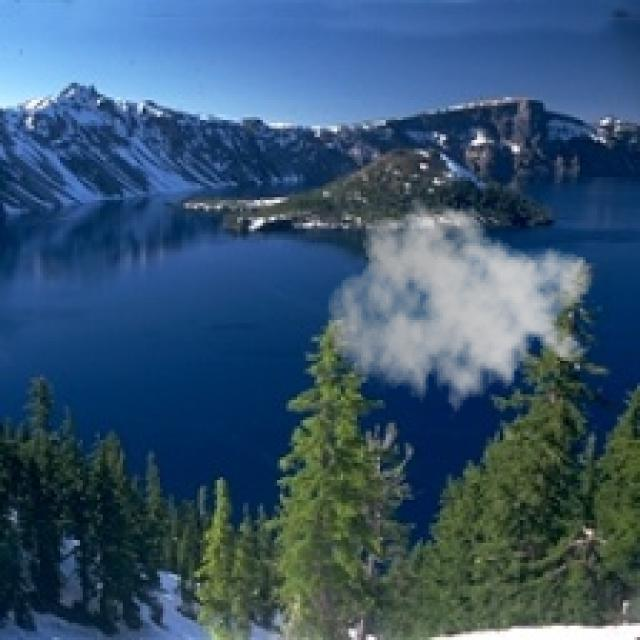Smoke: (326, 191, 594, 423)
